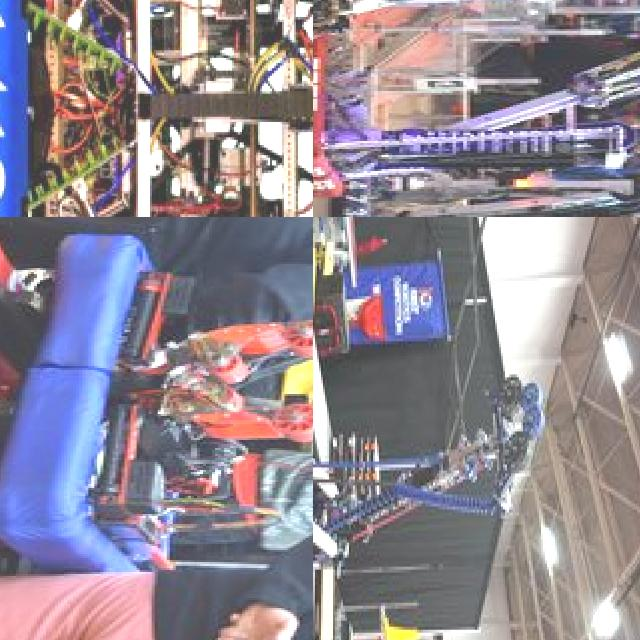FRC-Robots: (313, 217, 640, 640), (0, 236, 313, 580), (0, 0, 313, 217), (313, 11, 640, 217), (324, 95, 640, 217), (313, 0, 640, 81)
